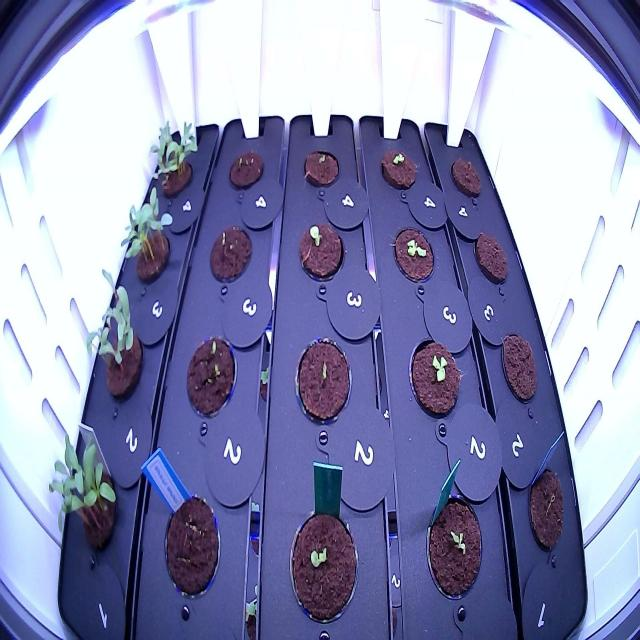germination: (284, 490, 362, 630), (423, 487, 487, 613), (289, 328, 357, 433), (404, 328, 466, 430), (183, 330, 239, 425), (292, 216, 348, 286), (207, 216, 254, 291), (389, 220, 440, 289), (377, 138, 423, 198), (226, 145, 266, 197), (301, 145, 345, 192)
pod: (160, 490, 223, 606), (525, 458, 570, 562), (495, 326, 542, 410), (471, 225, 511, 288), (447, 151, 484, 204)
